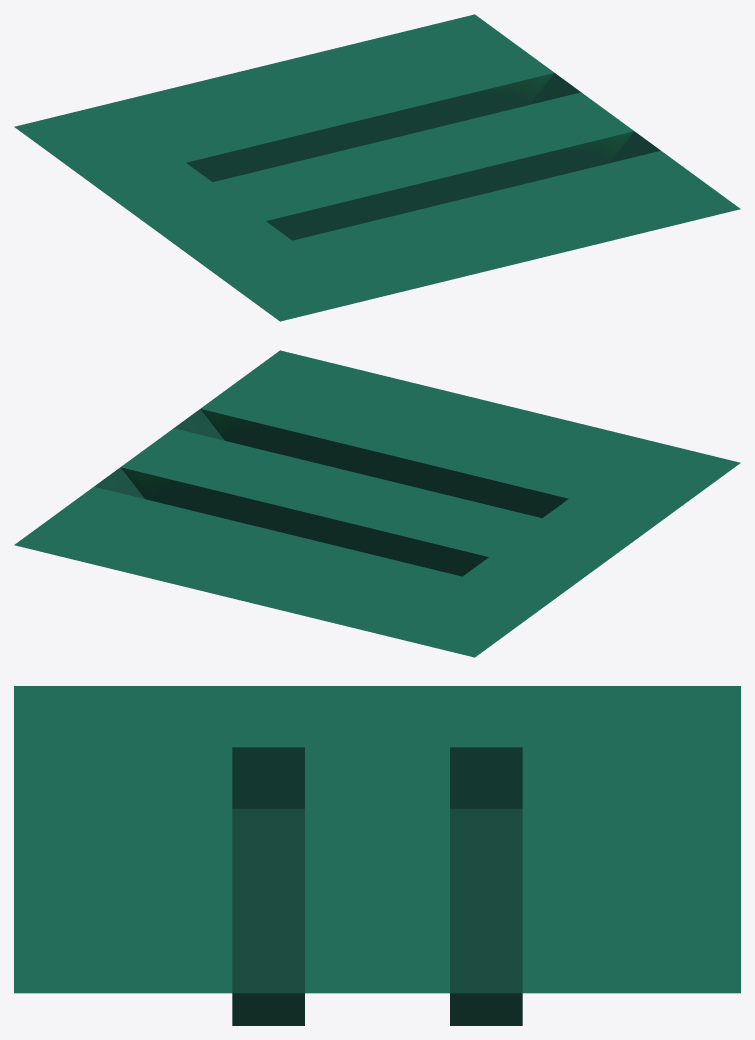
Rendered from tile07.fbx.
The picture shows the model from 3 angles, top to bottom: view 1: azimuth 30°, elevation 25°; view 2: azimuth 150°, elevation 25°; view 3: azimuth 270°, elevation 25°; orthographic projection. The views are drawn at different scales.
Parts seen in each view (by area): view 1: tile07_geo; view 2: tile07_geo; view 3: tile07_geo.
Part boxes in pixels (x1=…): tile07_geo: x1=14, y1=14, x2=740, y2=321; tile07_geo: x1=14, y1=350, x2=740, y2=657; tile07_geo: x1=14, y1=686, x2=740, y2=1025.
Size of the model in its own units: 100 by 9.3 by 100.
1 material, 1 textured.
